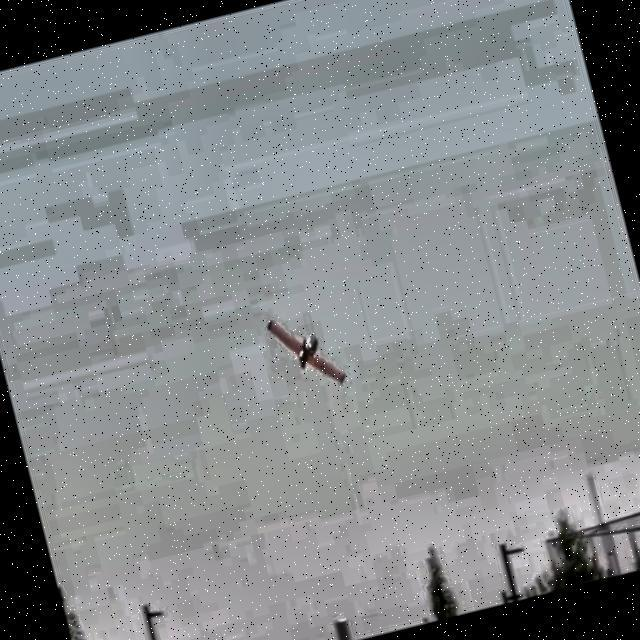iha: (292, 335, 320, 374)
